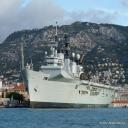Portanaves: (12, 22, 117, 110)
